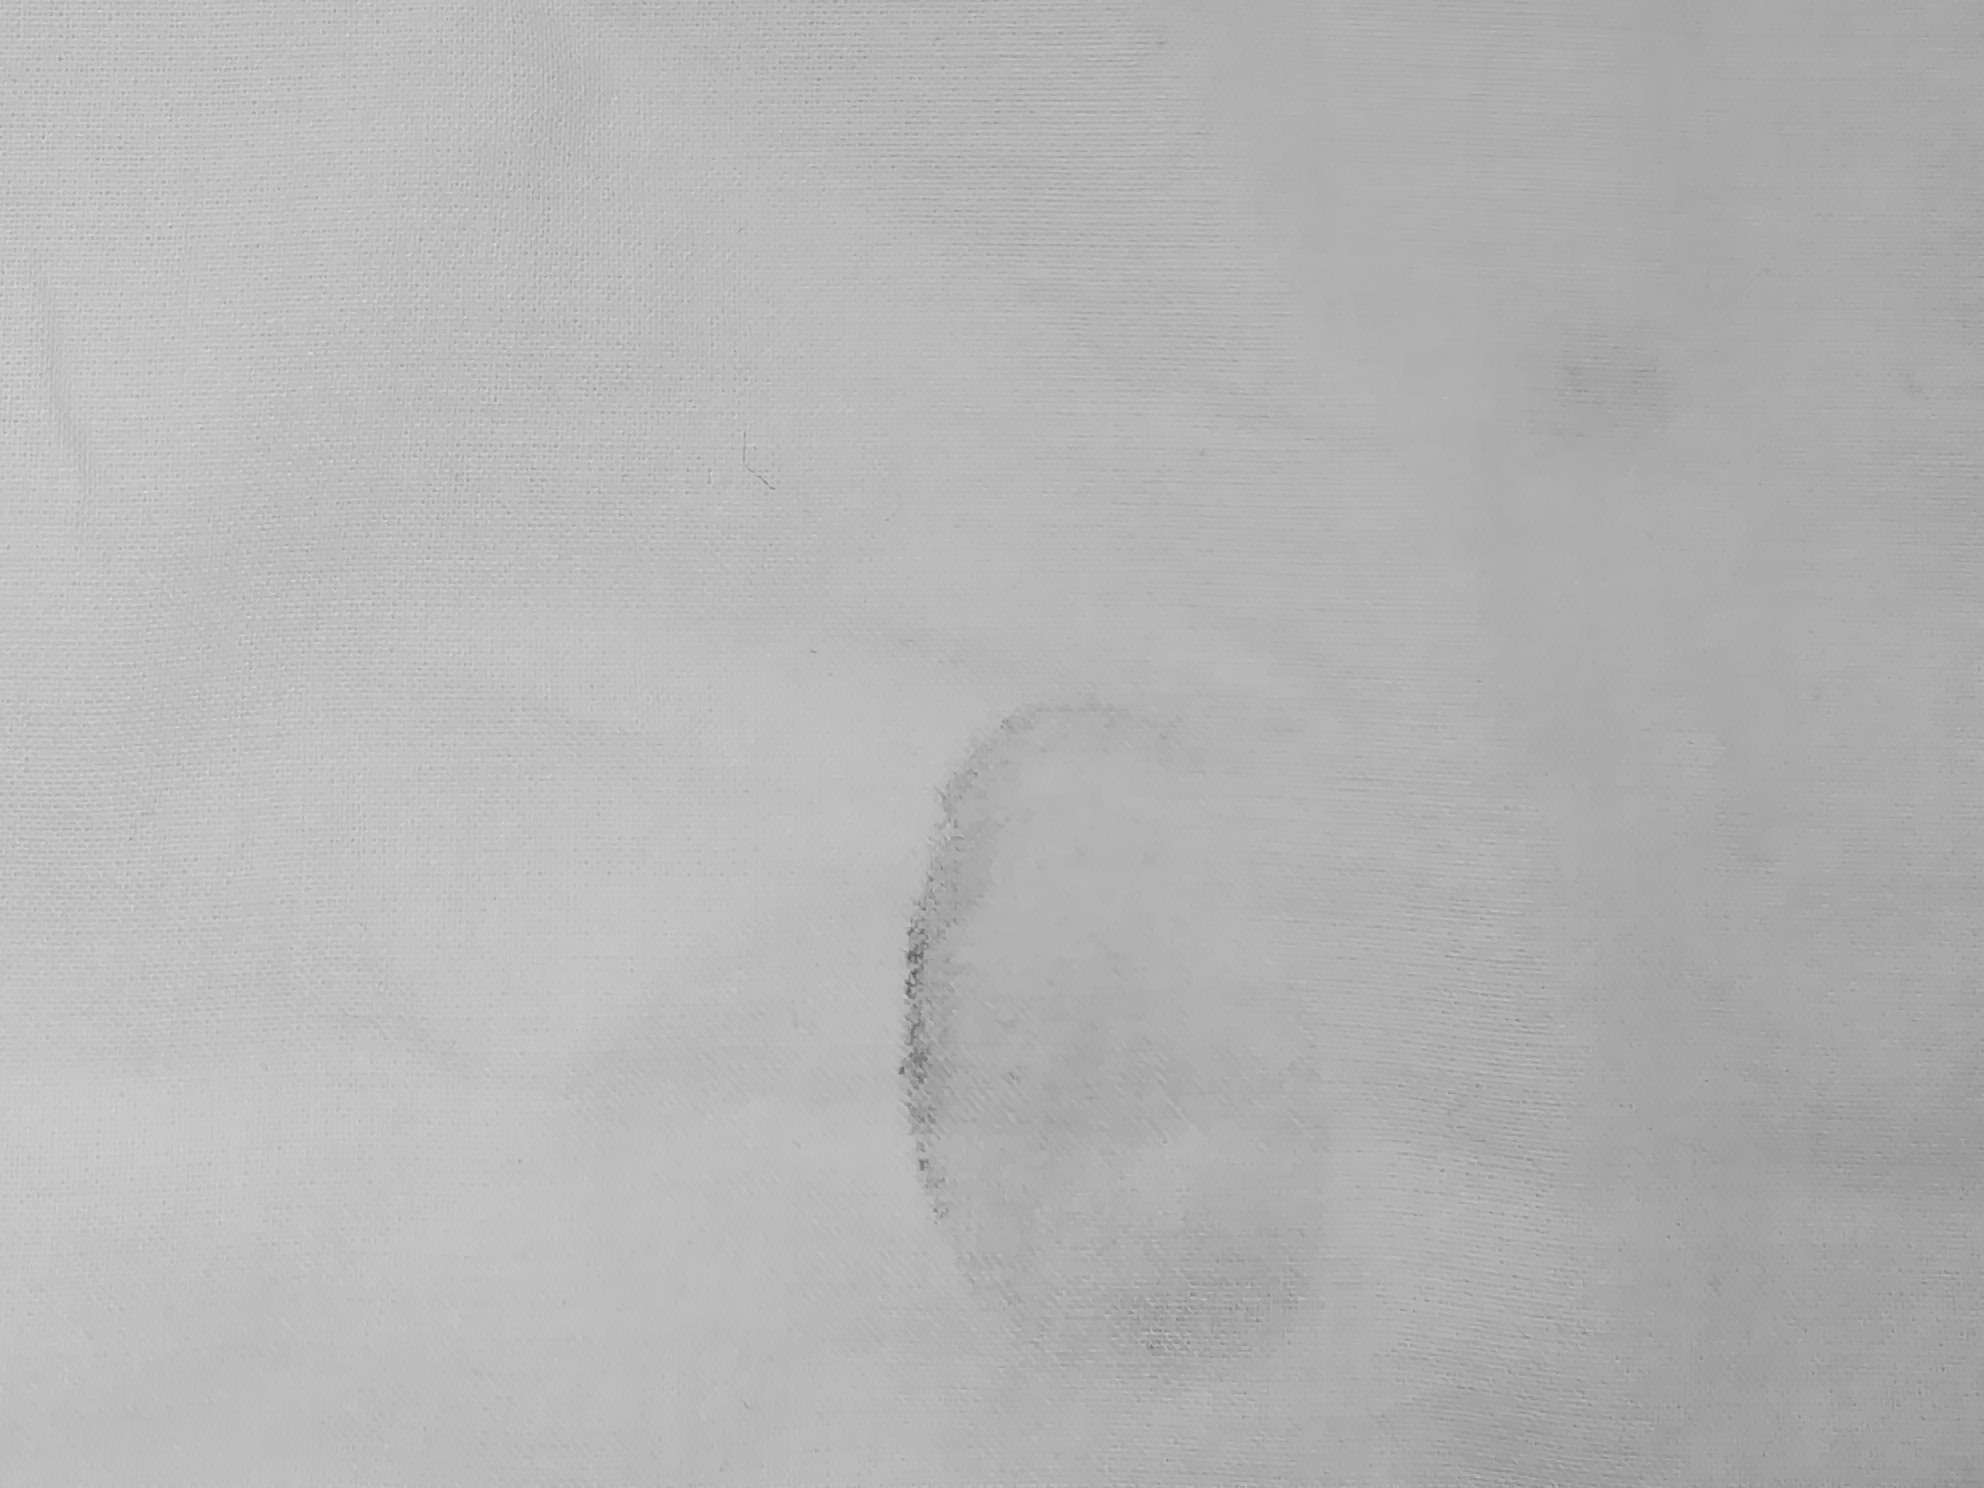Stain: (730, 617, 1504, 1405)
